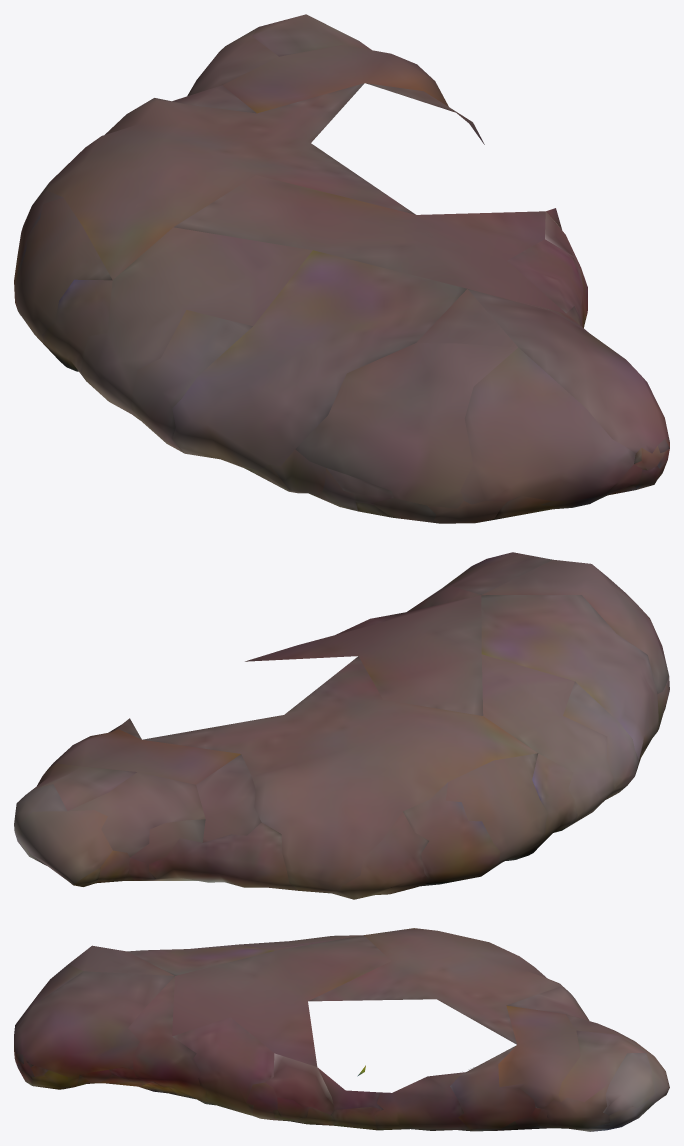
The model's file is hall.glb.
3 renders of one model, top to bottom at view 1: azimuth 30°, elevation 25°; view 2: azimuth 150°, elevation 25°; view 3: azimuth 270°, elevation 25°, orthographic. The views are drawn at different scales.
Size of the model in its own units: 0.4204 by 0.1272 by 0.7255.
Materials: 1 (1 with a texture image).
